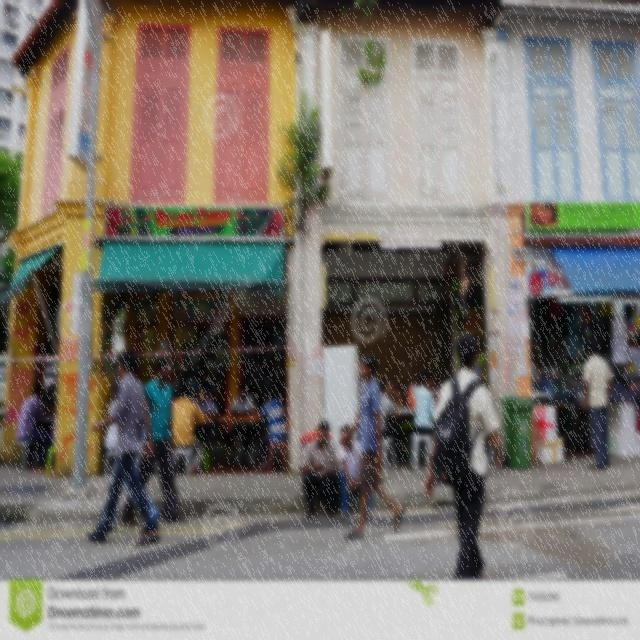pessoa: (422, 332, 504, 580), (86, 349, 162, 547), (336, 348, 406, 544), (116, 352, 189, 526), (105, 350, 161, 536), (298, 418, 342, 520), (581, 338, 614, 472), (172, 381, 206, 476), (253, 384, 288, 474), (169, 352, 225, 408), (15, 384, 51, 469), (223, 380, 254, 470), (336, 422, 362, 520), (380, 378, 404, 468), (191, 384, 221, 452), (413, 373, 436, 437), (524, 195, 561, 229), (104, 382, 120, 450), (36, 379, 60, 412), (528, 358, 540, 390), (633, 332, 640, 378), (471, 357, 482, 382), (108, 380, 120, 398), (52, 411, 58, 446), (626, 338, 635, 361), (426, 372, 434, 393), (584, 346, 590, 359)
